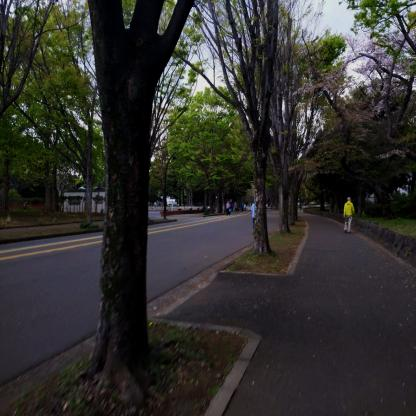Someiyoshino: (284, 24, 416, 176)
